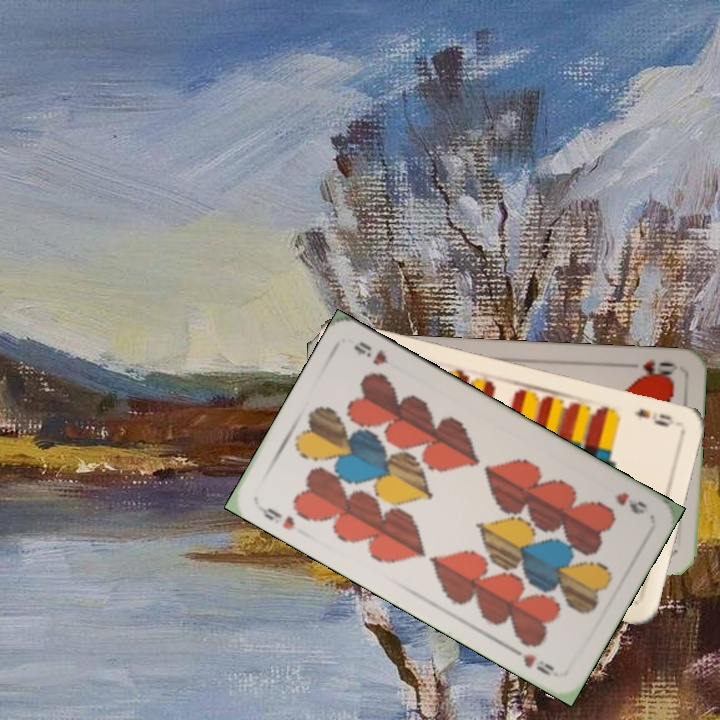E9: (631, 405, 677, 429)
H9: (253, 501, 298, 533), (611, 488, 650, 517)
HO: (632, 355, 680, 381)
